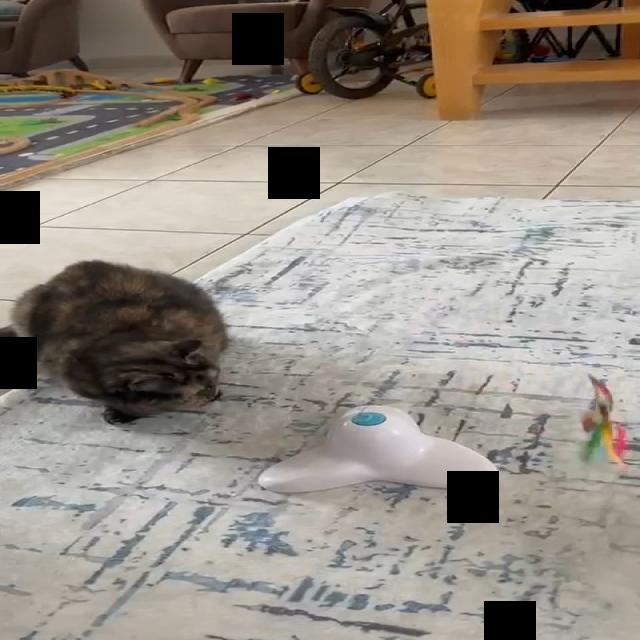authorized: (2, 259, 230, 424)
